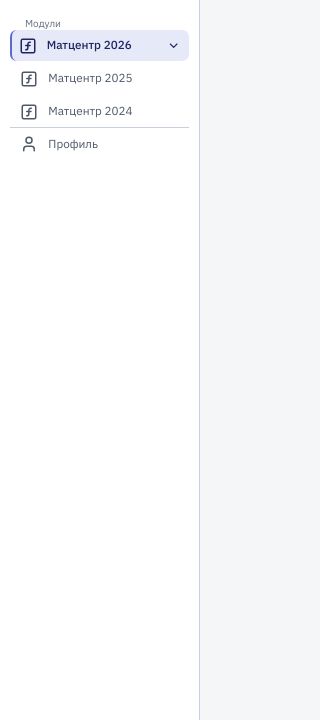
Test case: module navigation › opens a cohort archive only when its already-active rail item is clicked
Expected: the link "8 класс · Лагерь" is not shown
Click the link "Матцентр 2026": (100, 46) [10,30,189,61]
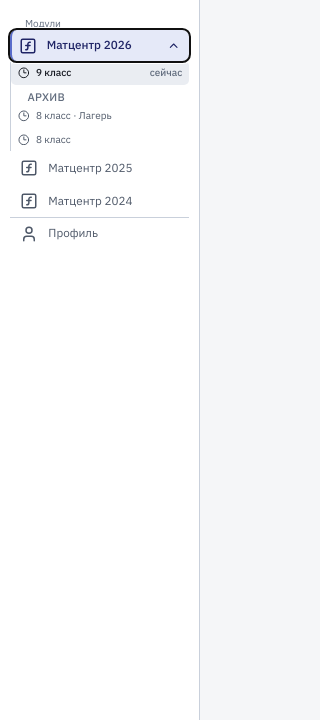
Now the text "Архив" is shown, box [28,90,65,104]
